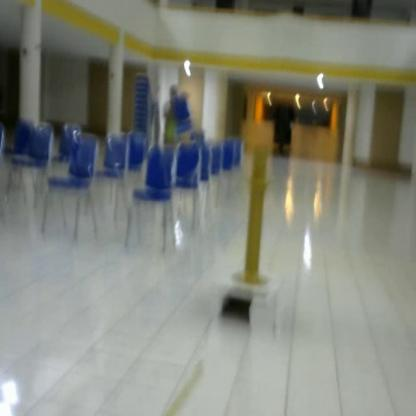pole: (231, 139, 278, 290)
